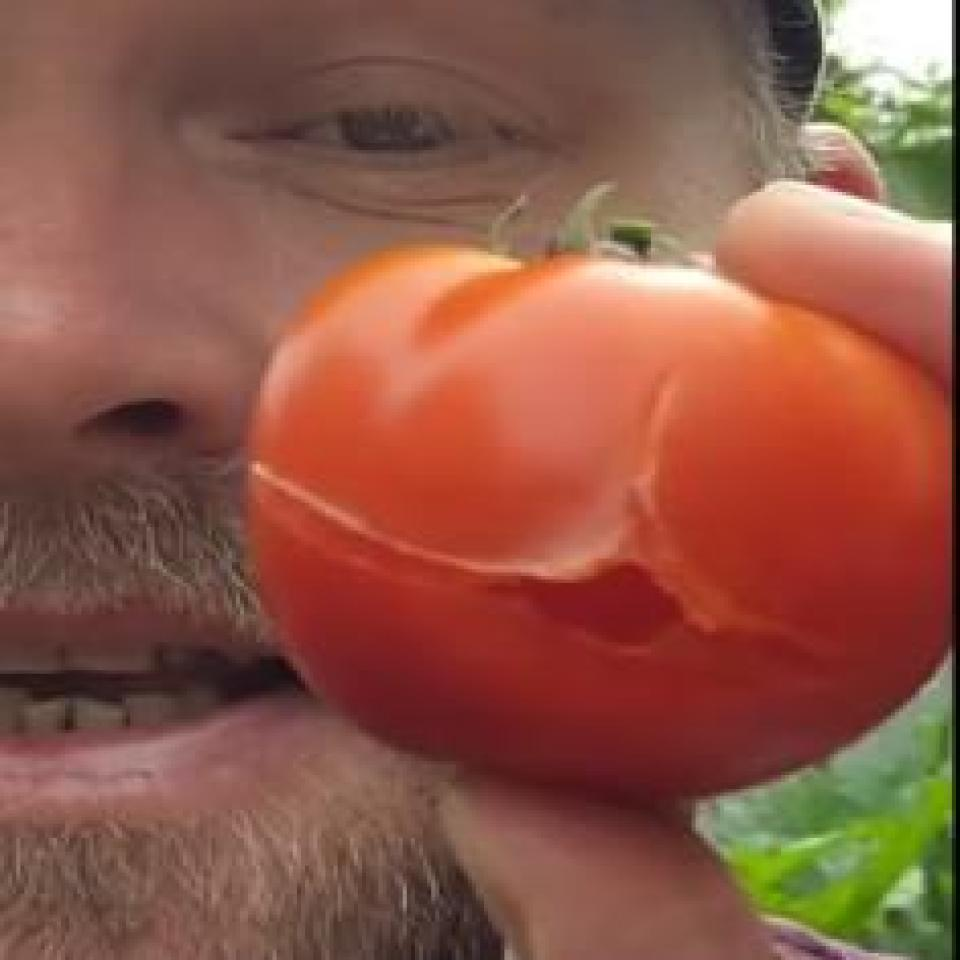Cracking: (249, 300, 942, 747)
